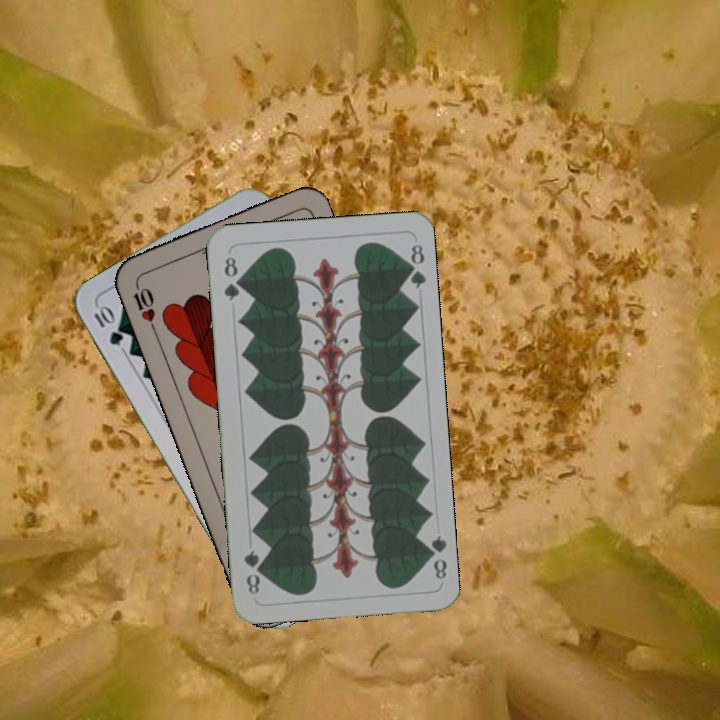G10: (89, 301, 126, 348)
G8: (421, 531, 450, 582), (219, 252, 243, 304)
H10: (129, 277, 159, 334)
